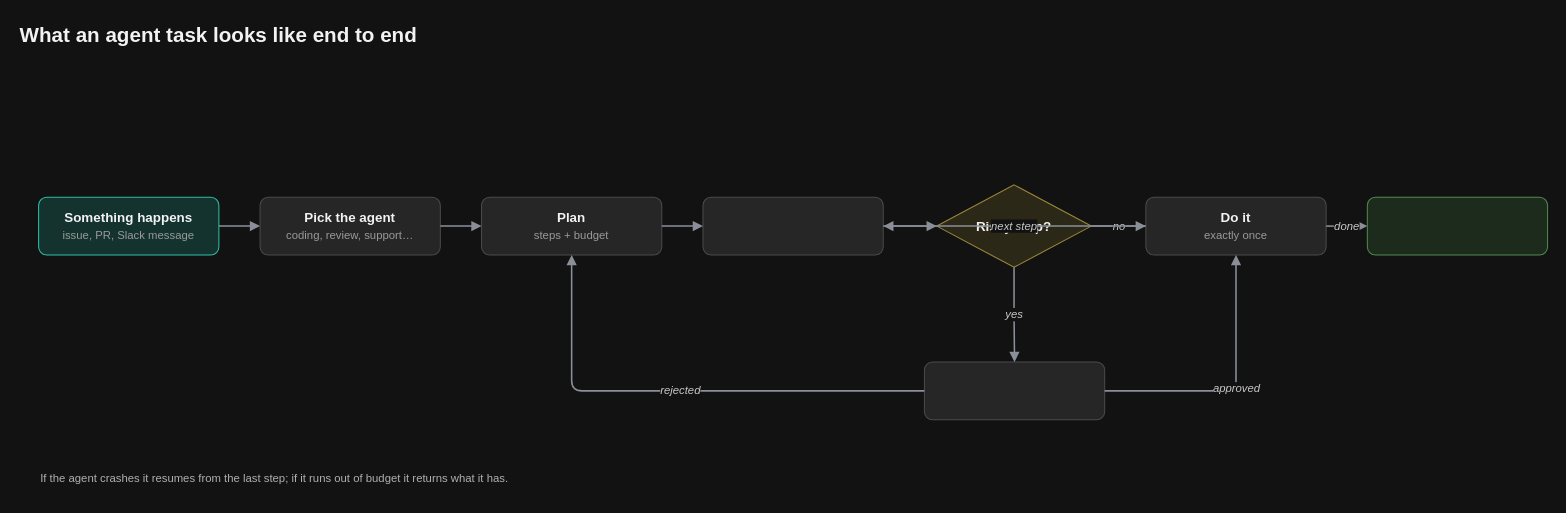
This 1566x513 diagram has some shape labels left out. Here are the shapes that lost their labels. From the top down, the centre of each, then its label:
At pixel 792 225: "Work in a sandbox read, edit, run tests".
At pixel 1457 225: "Report result PR, comment, ticket".
At pixel 1014 390: "Ask a human Slack approve / reject".
